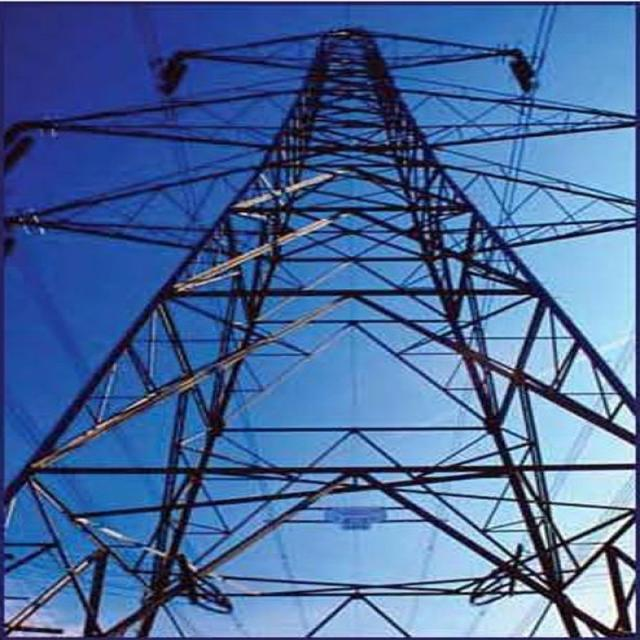non-critical vegetation: (24, 18, 634, 622)
